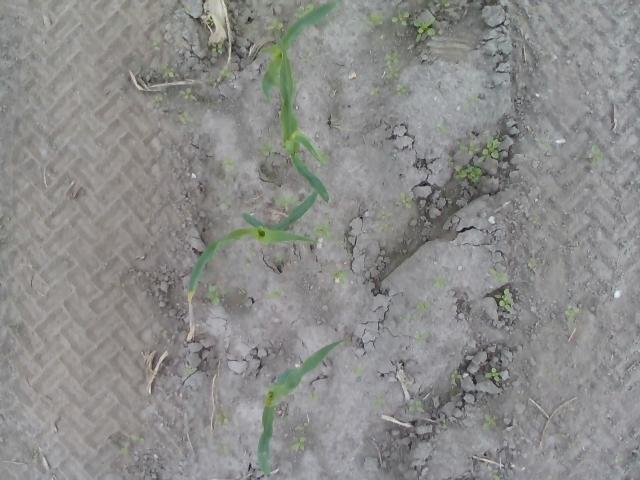Maize: (190, 186, 320, 292), (257, 340, 345, 478), (278, 38, 334, 203), (260, 0, 344, 106)
Weeds: (459, 138, 500, 161), (118, 430, 144, 458), (290, 424, 312, 454), (494, 288, 514, 315), (414, 19, 435, 44), (382, 53, 400, 81), (455, 165, 481, 184), (208, 284, 225, 308), (390, 8, 410, 28), (413, 330, 432, 350), (396, 188, 414, 208), (314, 224, 332, 242), (488, 268, 511, 282), (482, 414, 498, 434), (375, 210, 390, 231), (277, 194, 299, 208), (258, 141, 274, 159), (366, 12, 384, 28), (590, 144, 604, 164), (564, 304, 580, 321), (485, 367, 501, 384), (215, 410, 231, 426), (333, 270, 348, 286), (224, 157, 242, 170), (177, 112, 192, 126), (162, 63, 176, 78), (433, 278, 448, 292), (407, 398, 423, 411), (178, 88, 195, 100), (294, 4, 312, 15), (211, 41, 224, 56), (394, 85, 408, 98), (449, 368, 462, 382), (416, 302, 431, 314), (146, 40, 162, 50), (270, 288, 284, 299), (220, 70, 234, 81), (354, 367, 368, 378), (371, 398, 383, 410), (434, 125, 448, 134), (440, 0, 452, 10), (370, 87, 380, 97), (152, 95, 162, 104), (206, 17, 214, 27)
